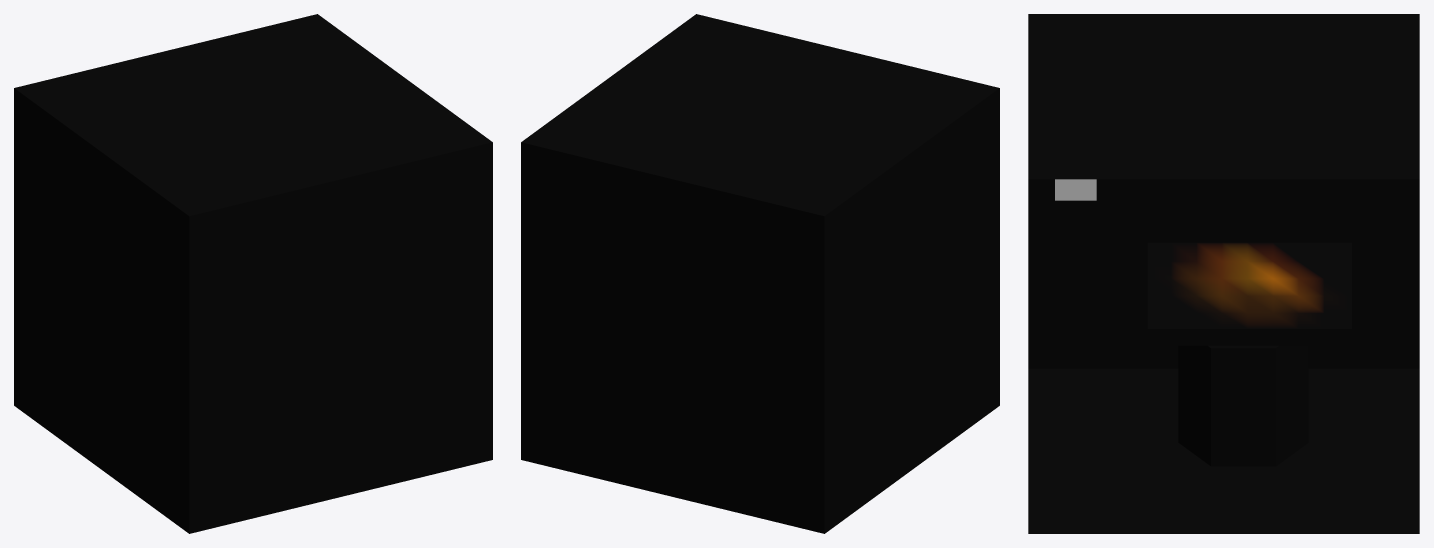
3 views of the same model, side by side, from view 1: azimuth 30°, elevation 25°; view 2: azimuth 150°, elevation 25°; view 3: azimuth 270°, elevation 25° (orthographic). The views are drawn at different scales.
Visible parts, largest first — view 1: Cube; view 2: Cube; view 3: Cube, Cube.002, Cylinder, Cube.001.
Boxes of the visible parts, left/top/right/bottom form: Cube: left=14, top=14, right=492, bottom=533; Cube: left=521, top=14, right=999, bottom=533; Cube: left=1028, top=14, right=1419, bottom=533; Cube.002: left=1147, top=242, right=1351, bottom=345; Cylinder: left=1178, top=345, right=1308, bottom=466; Cube.001: left=1055, top=179, right=1096, bottom=200.
Bounding box in the file's own units: 6 × 6 × 6.
